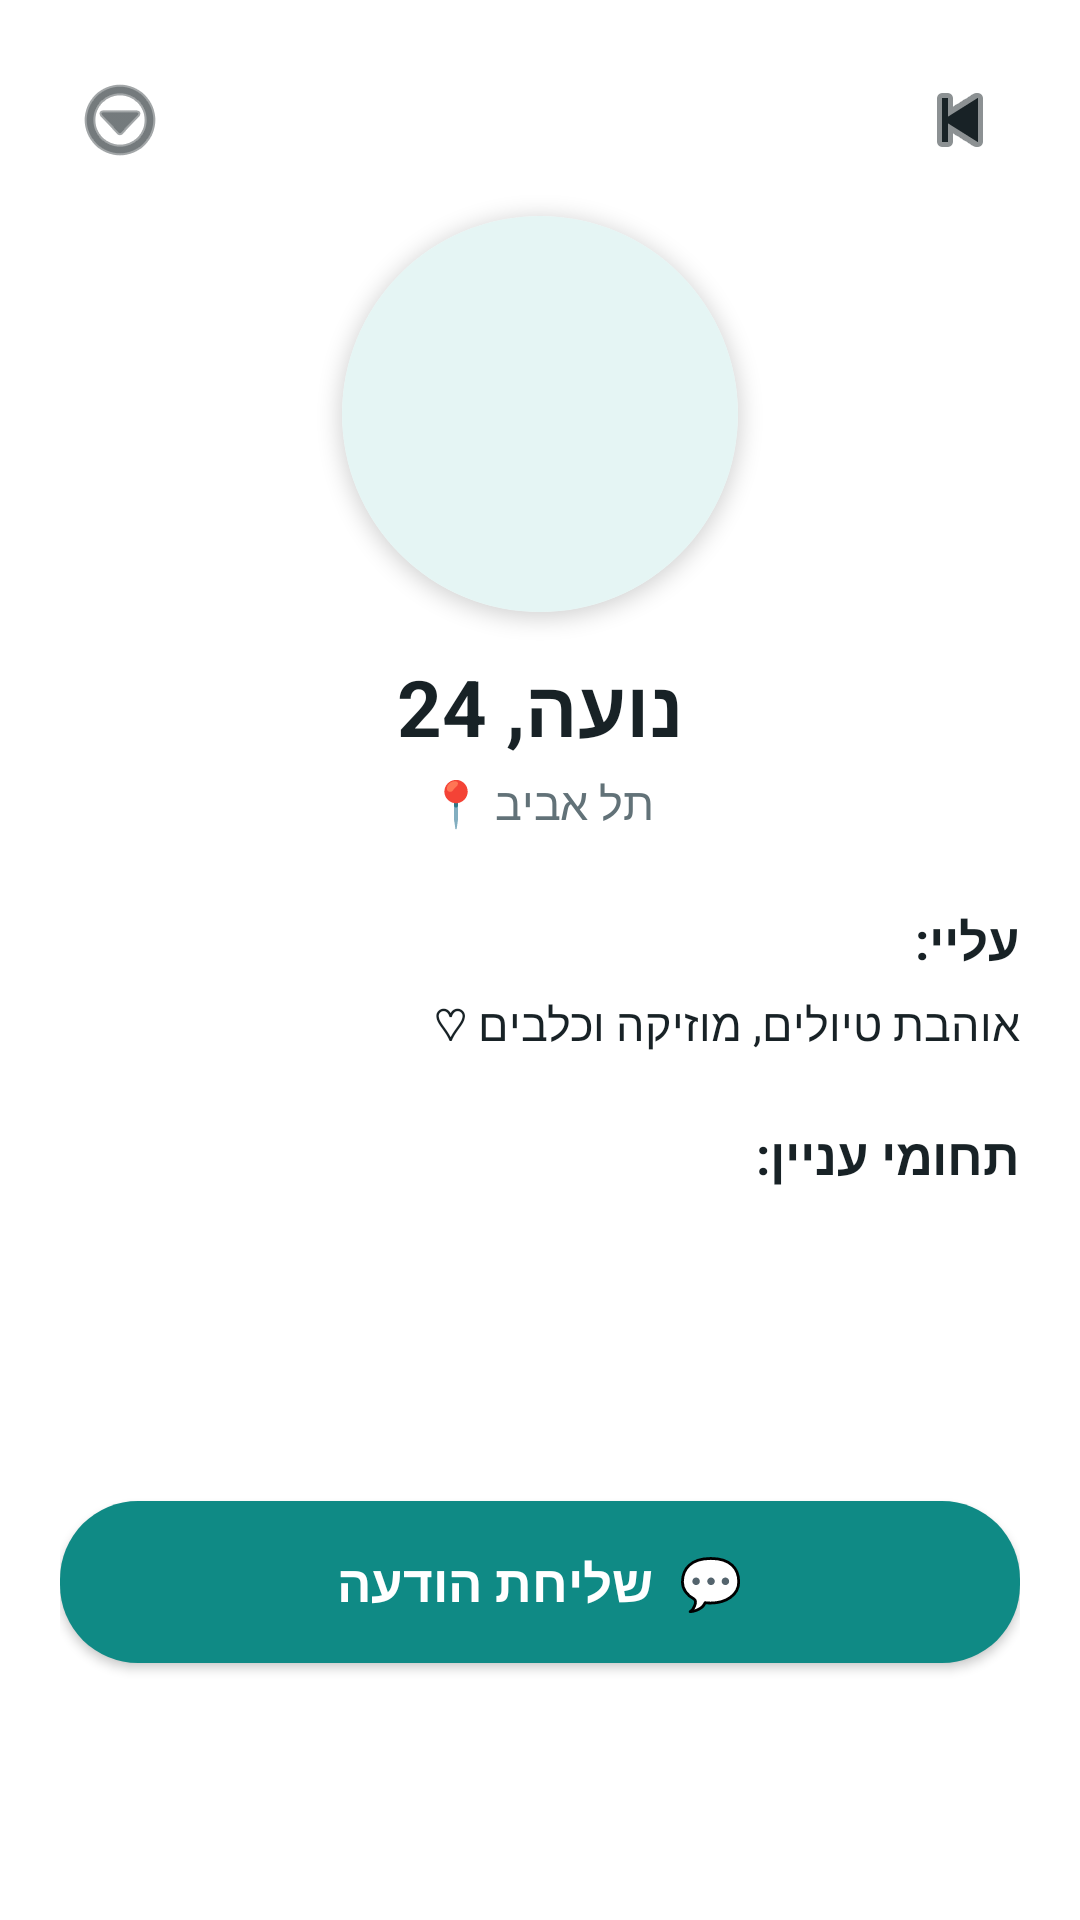

Screen size 1080 × 1920. Icon name, then its box in pixels as detection(x1, y1, x2, y2):
חזרה: detection(937, 93, 983, 147)
